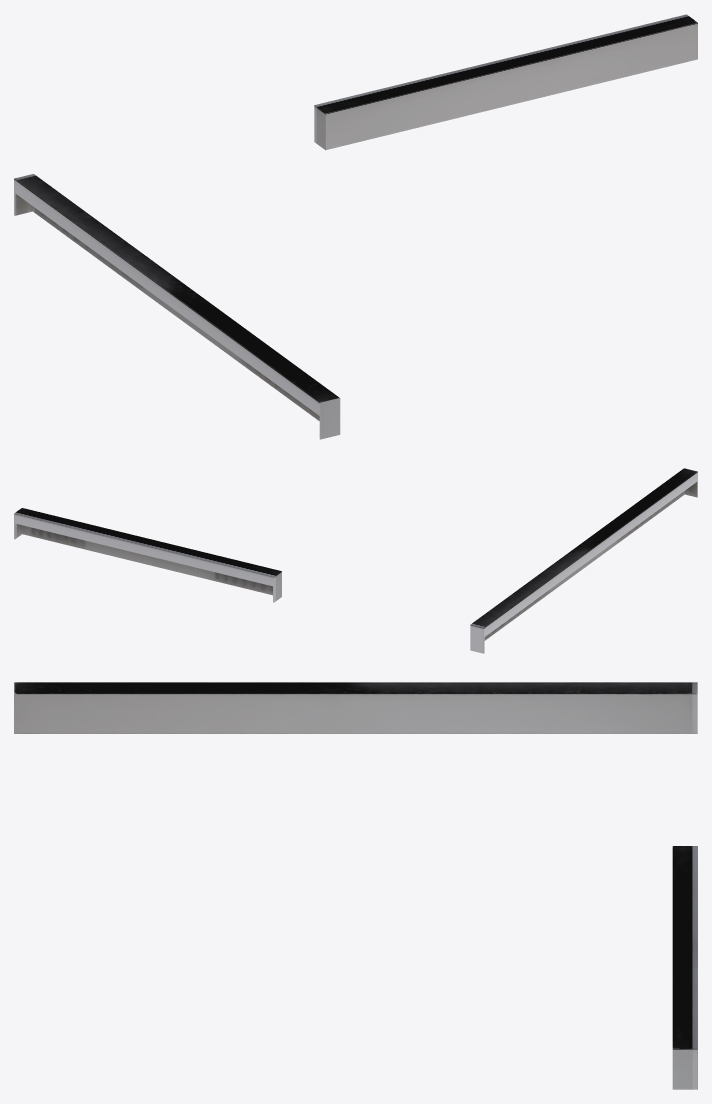
The model's file is screencover.gltf.
3 renders of one model, top to bottom at view 1: azimuth 30°, elevation 25°; view 2: azimuth 150°, elevation 25°; view 3: azimuth 270°, elevation 25°, orthographic. The views are drawn at different scales.
Visible parts, largest first — view 1: screencover; view 2: screencover; view 3: screencover.
Part boxes in pixels (left/top/right/bottom): screencover: left=14, top=14, right=697, bottom=439; screencover: left=14, top=468, right=697, bottom=653; screencover: left=14, top=682, right=697, bottom=1089.
Bounding box in the file's own units: 5.11 × 0.2666 × 4.04.
1 material, 1 textured.
